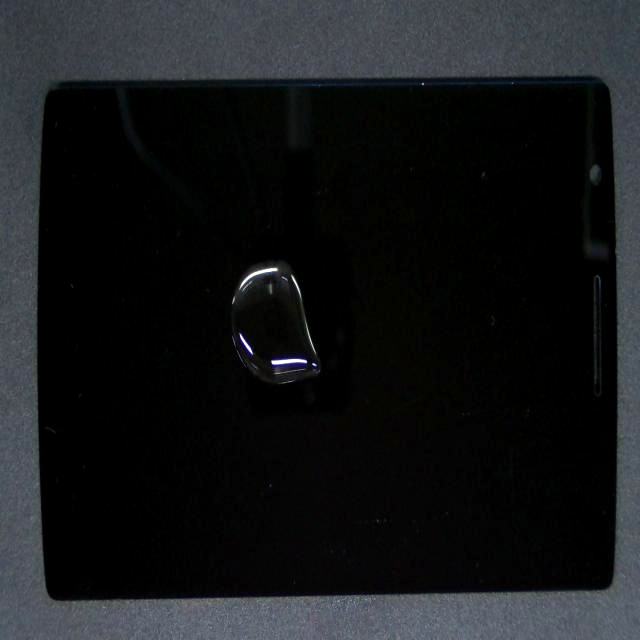oil: (175, 153, 425, 404)
